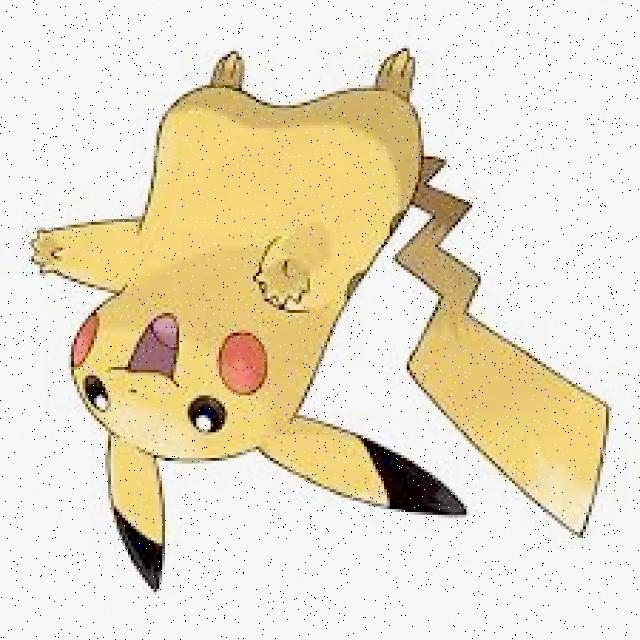pikachu: (28, 42, 610, 594)
